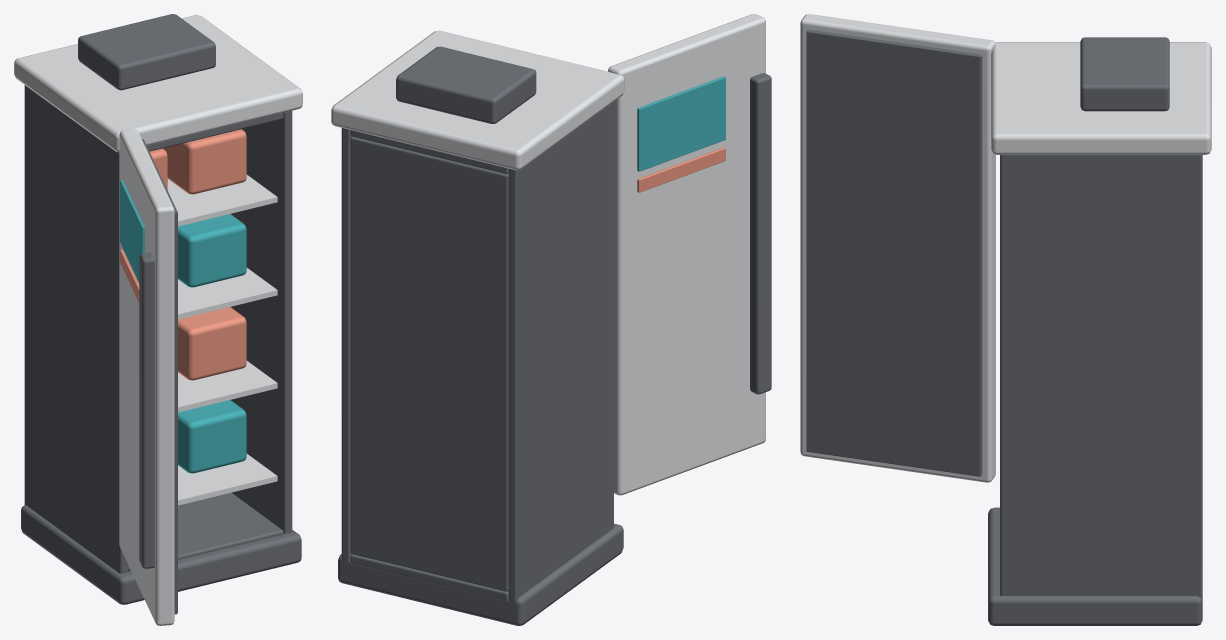
File: public-aquarium-and-marine-centre-feed-fridge-open-c6bb444a__34182.glb
3 views of the same model, side by side, from view 1: azimuth 30°, elevation 25°; view 2: azimuth 150°, elevation 25°; view 3: azimuth 270°, elevation 25° (orthographic). The views are drawn at different scales.
Parts seen in each view (by area): view 1: feed-fridge-open, door-fridge (×3); view 2: feed-fridge-open, door-fridge (×4); view 3: feed-fridge-open, door-fridge (×2).
Part boxes in pixels (x1,y1,x2,y2): feed-fridge-open: (14,14,302,604); door-fridge (×3): (119,129,177,625); feed-fridge-open: (331,30,624,625); door-fridge (×4): (608,14,771,495); feed-fridge-open: (988,37,1211,625); door-fridge (×2): (800,14,995,482).
Size of the model in its own units: 0.9968 by 1.93 by 1.38.
